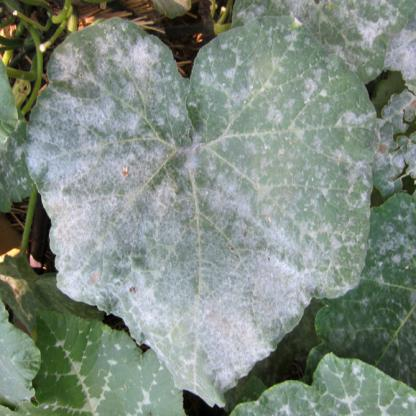squash powdery mildew leaf: (27, 16, 372, 404)
